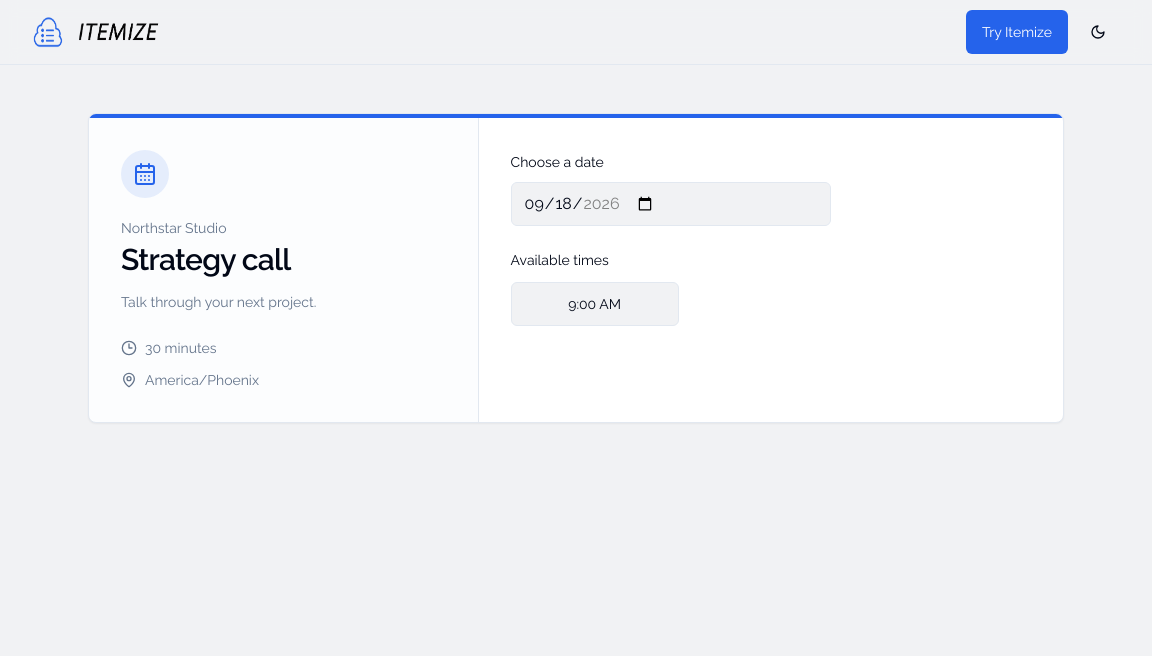
Test: PublicBookingPage › retains the one-time cancellation capability after confirmation
Click the button "9:00 AM": (595, 304) [511, 282, 679, 326]
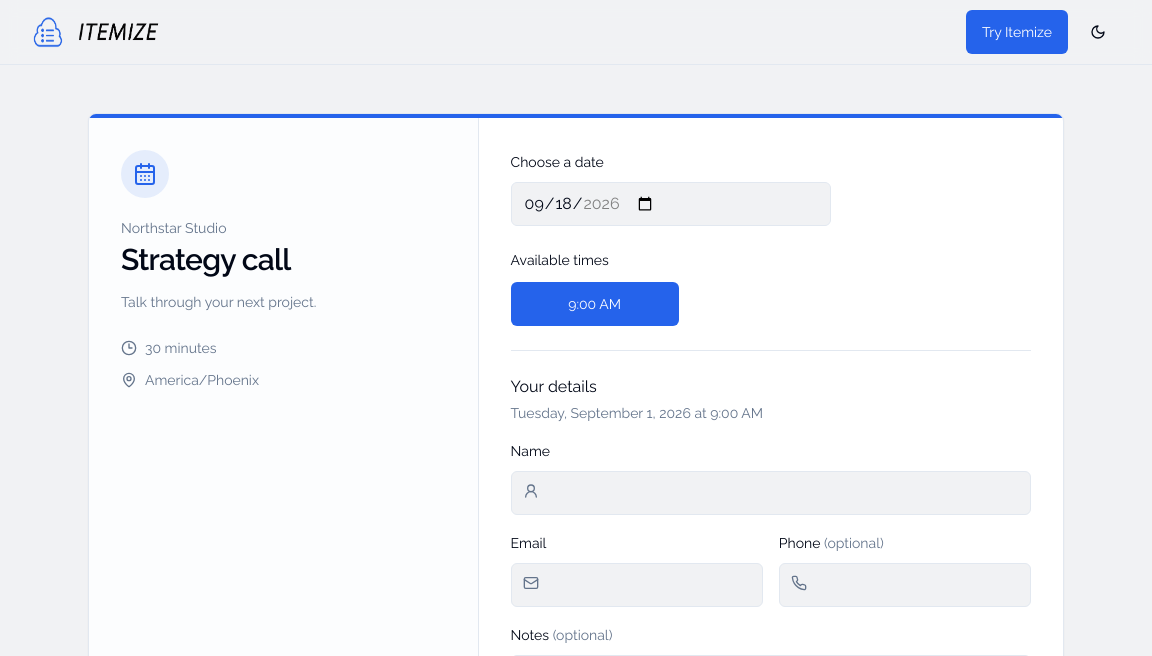
In the field labelled "Name": (771, 493) [511, 471, 1031, 515], type "Maya Patel"
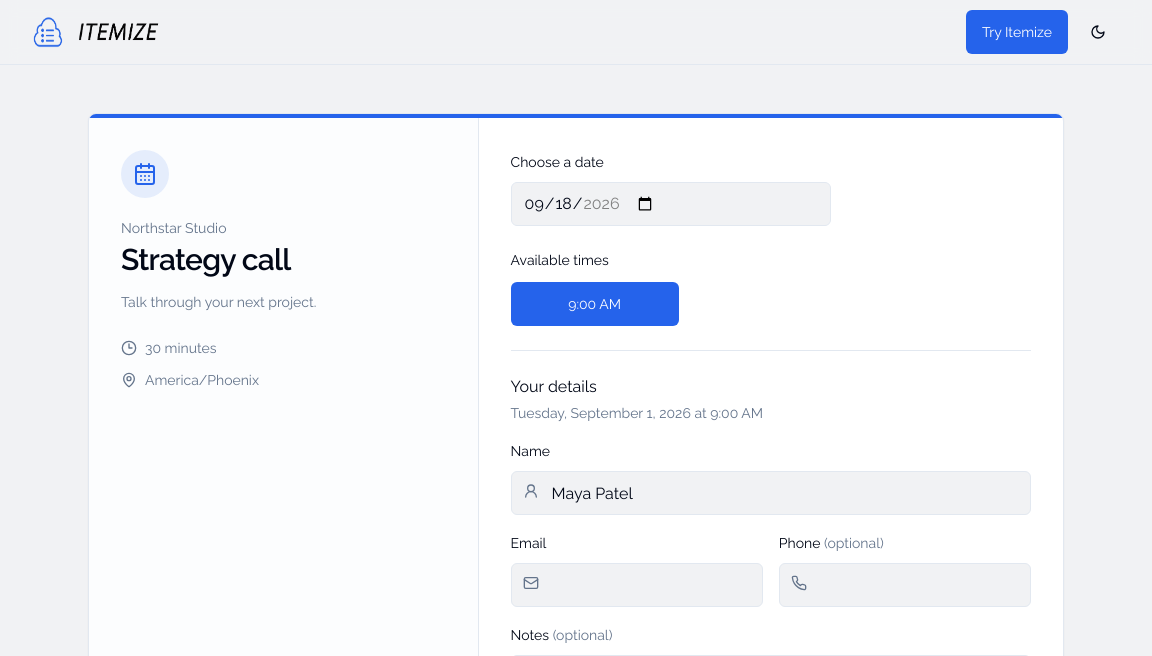
In the field labelled "Email": (637, 585) [511, 563, 763, 607], type "maya@example.com"
(page scrolled)
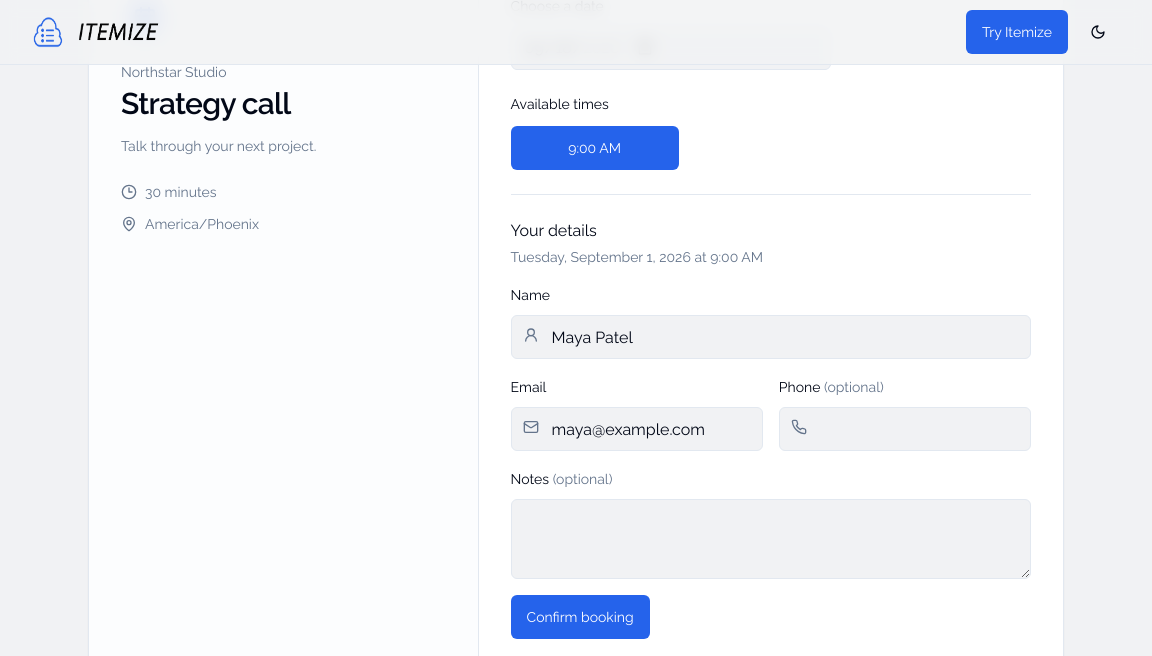
Click the button "Confirm booking": (580, 617) [511, 595, 650, 639]
(page scrolled)
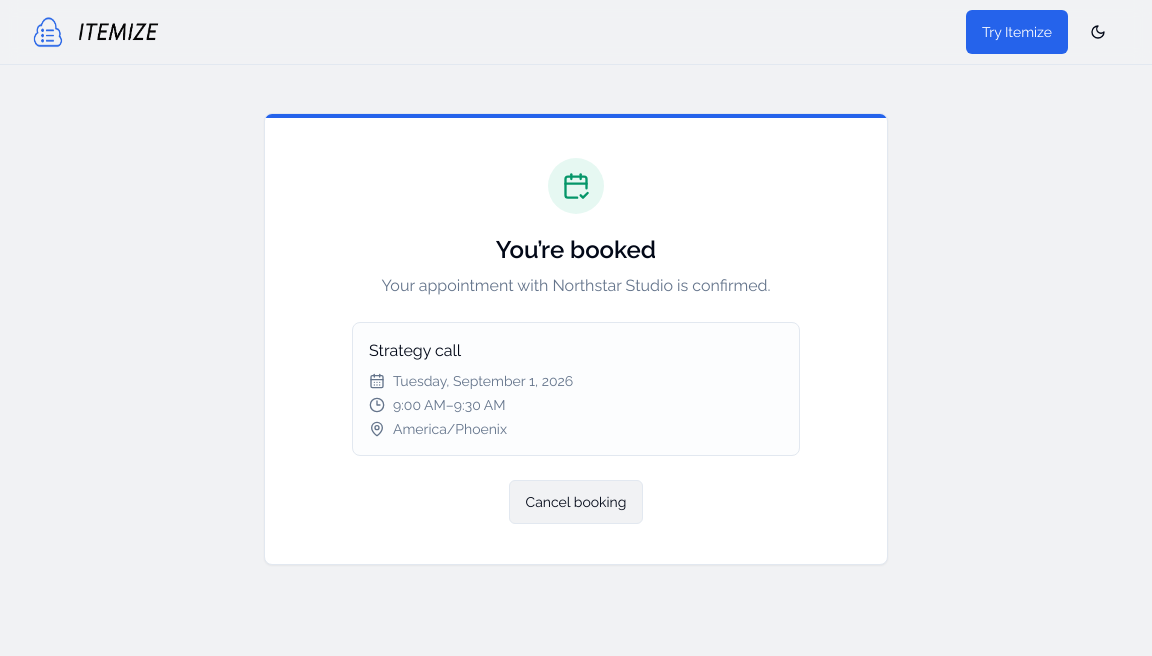
Click the button "Cancel booking": (576, 502) [509, 480, 643, 524]
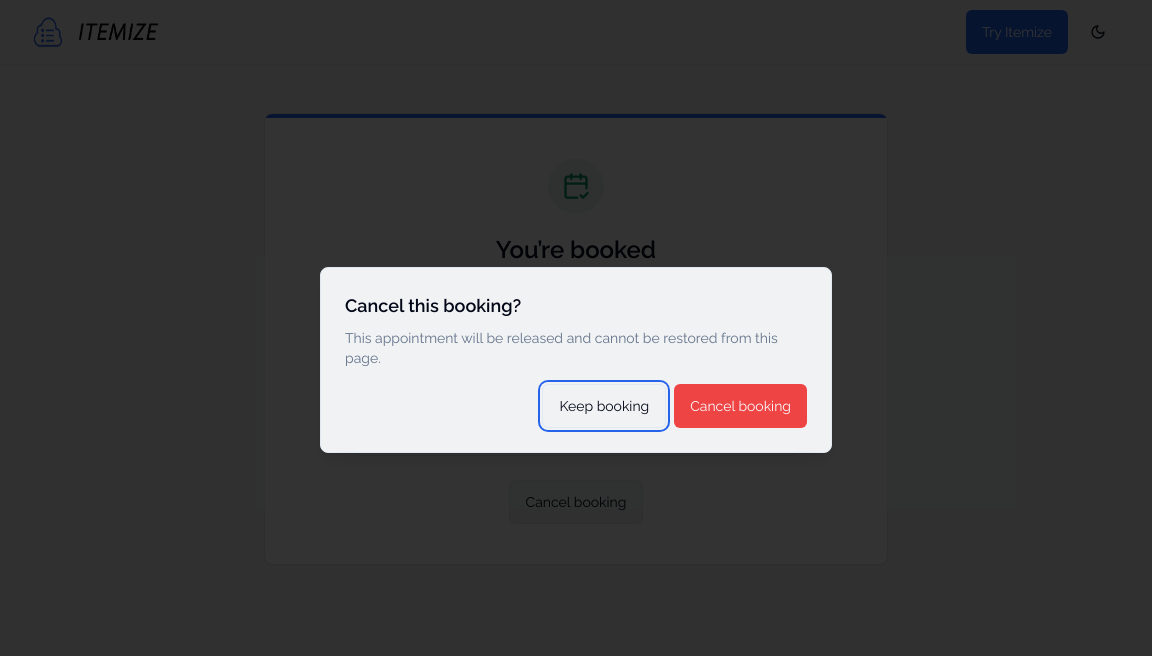
Now the heading "Cancel this booking?" is shown, box [345, 295, 521, 316]
Click the button "Cancel booking": (741, 406) [674, 384, 807, 428]
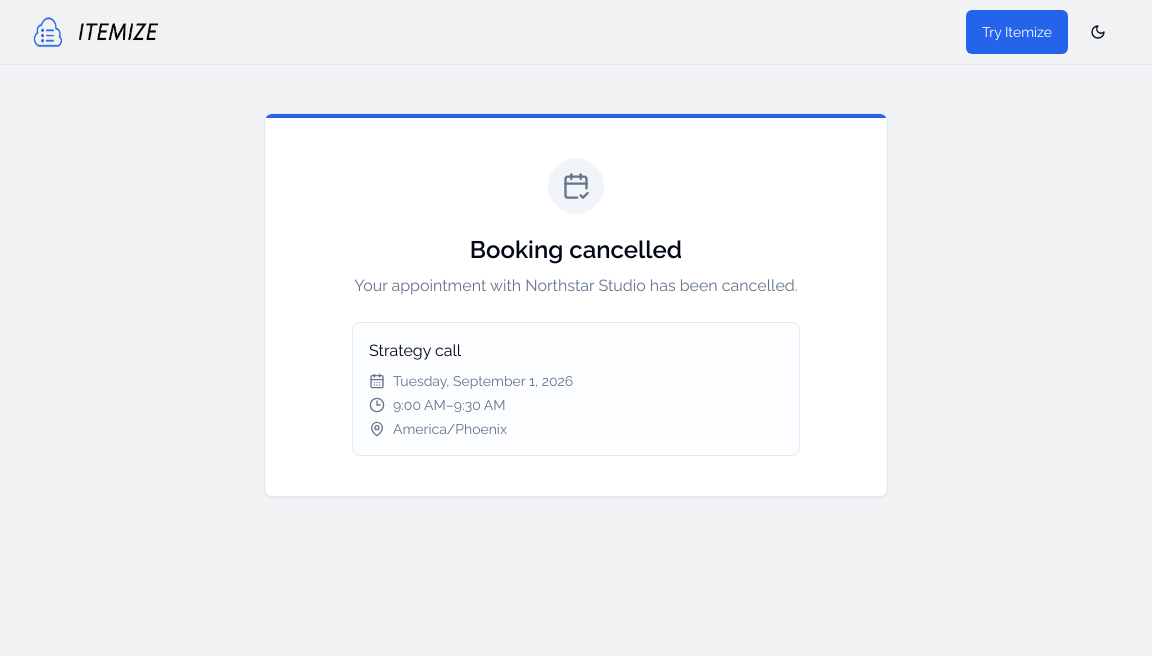
Now the heading "Booking cancelled" is shown, box [470, 235, 682, 264]
